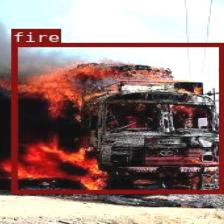fire: (11, 42, 223, 194)
